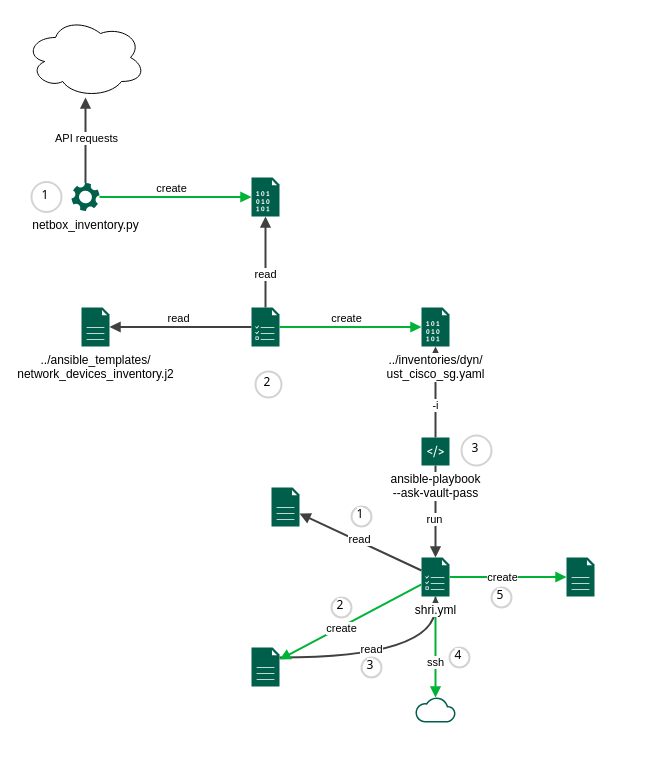
The diagram is 651 pixels wide and 761 high, and some of its shapes have lost their labels. The box of each missing label's shape, as (x1, y1, x2, y2) in pixels:
../inventories/prod/ all_devices.json: (251, 177, 279, 216)
../templates/shri/ {{ template_name }}.j2: (271, 487, 299, 526)
./temp/ execution_output.txt: (566, 557, 594, 596)
./temp/ rendered_commands_{{ inventory_hostname }}.txt: (251, 647, 279, 686)
devices: (415, 697, 455, 722)
Netbox: (24, 16, 146, 98)
ust_cisco_sg.yml: (251, 307, 279, 346)
